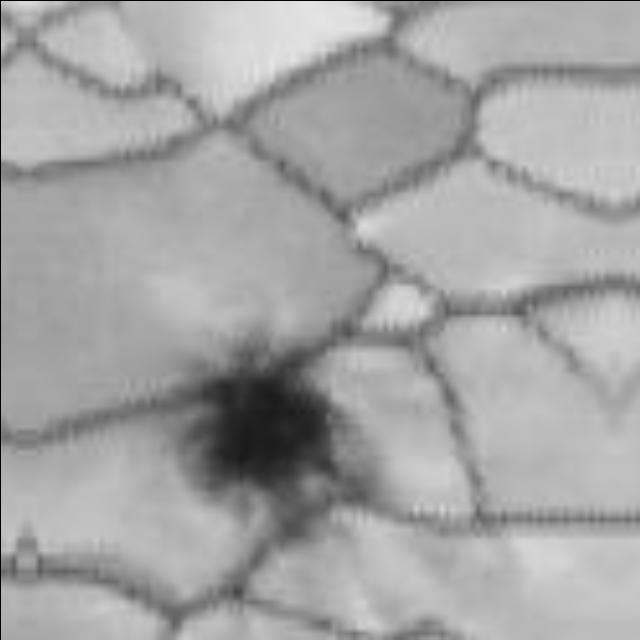good_void: (134, 310, 367, 544)
